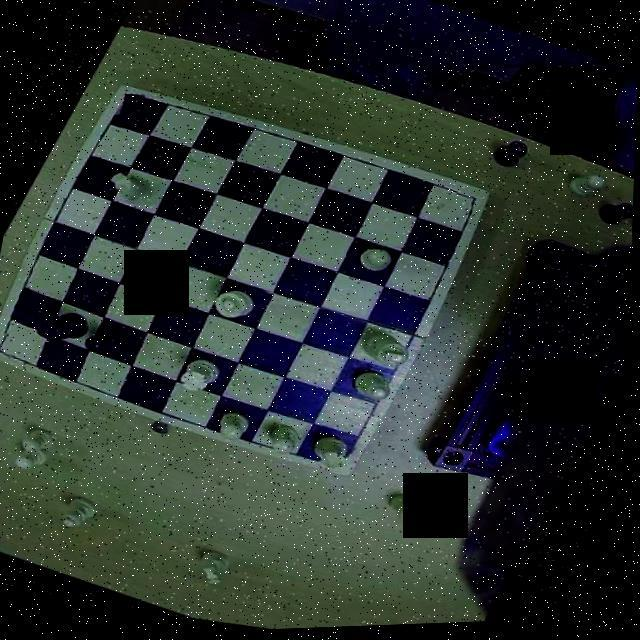chess-table-corners: (320, 438, 367, 480), (446, 186, 490, 228), (109, 84, 153, 124), (0, 328, 27, 364)
